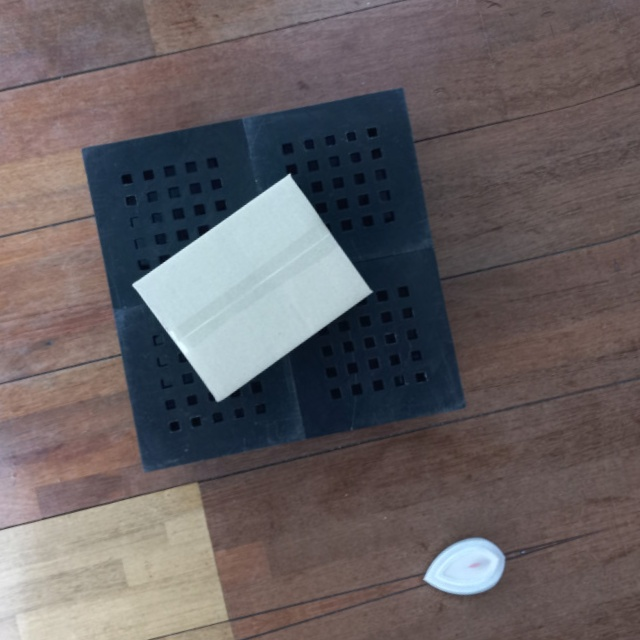box: (125, 171, 368, 410)
pallet: (73, 78, 474, 479)
